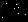person: (19, 5, 26, 15), (3, 4, 7, 15)
